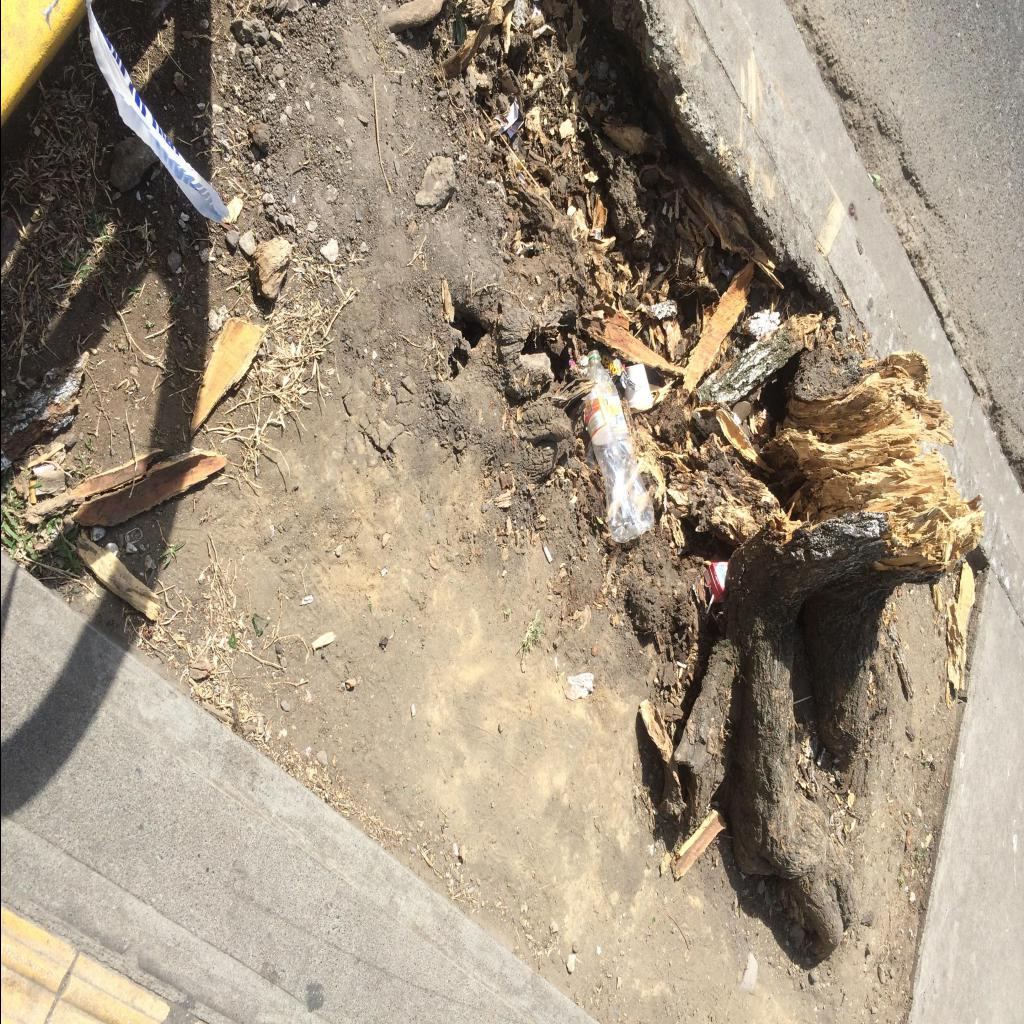Cigarette: (541, 544, 551, 563)
Clear plastic bottle: (584, 350, 652, 542)
Drink carton: (703, 561, 727, 603)
Foam cup: (624, 364, 652, 408)
Normal paper: (500, 100, 523, 138)
Plastic film: (84, 2, 228, 222), (594, 344, 634, 390)
Plastic straw: (704, 594, 714, 614)
